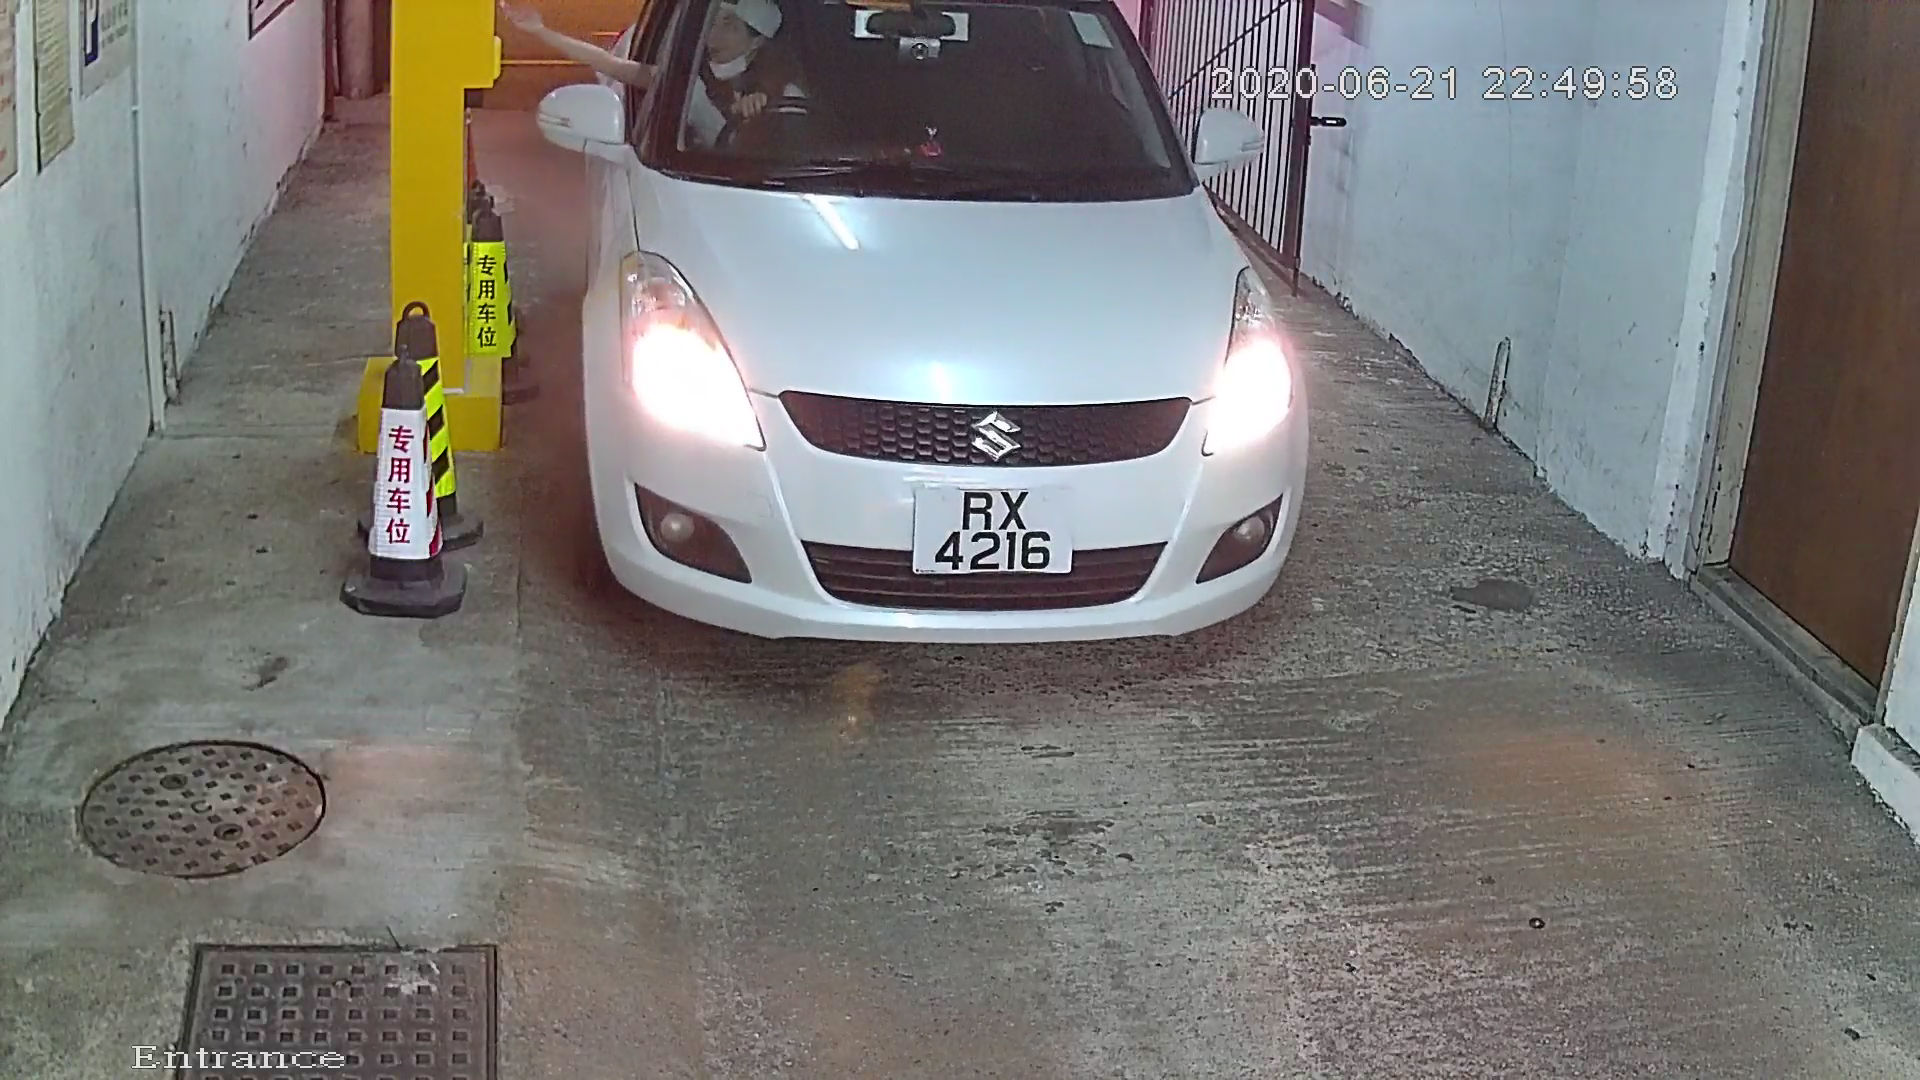privatecar: (521, 1, 1324, 752)
